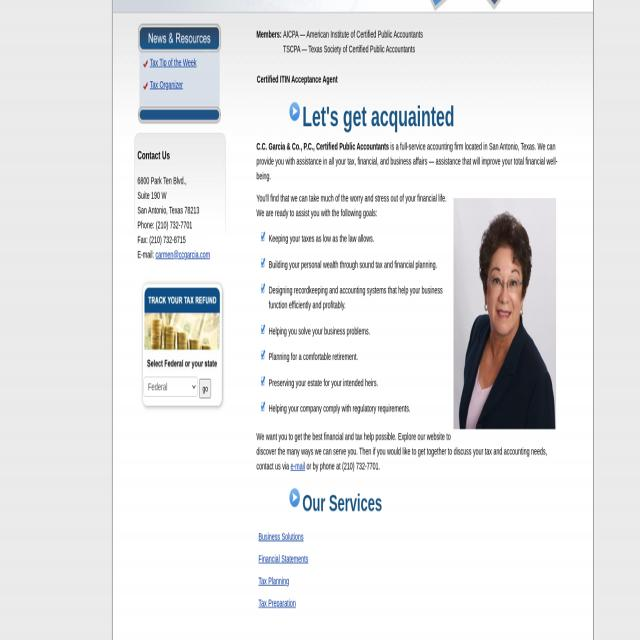button: (453, 197, 555, 428), (198, 378, 210, 397)
field: (143, 376, 197, 396), (260, 375, 266, 387), (260, 283, 266, 294), (260, 350, 266, 360), (261, 258, 266, 269), (260, 325, 266, 334), (260, 402, 265, 412), (261, 232, 265, 242)
